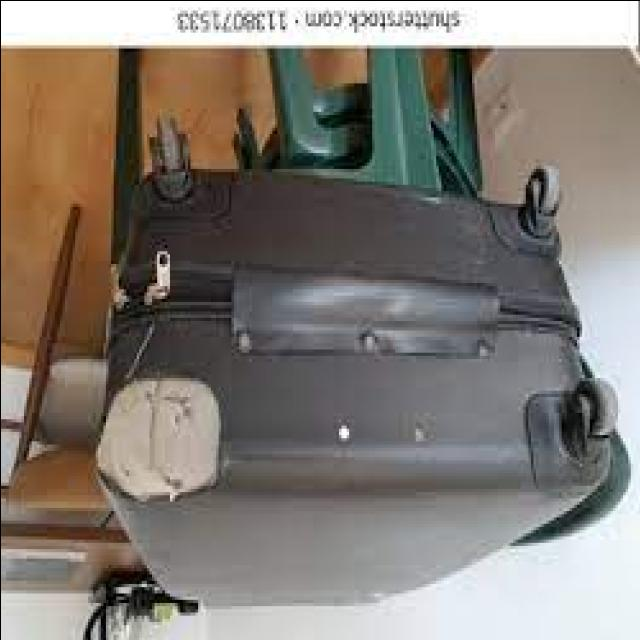Damage-bag: (95, 376, 220, 505)
